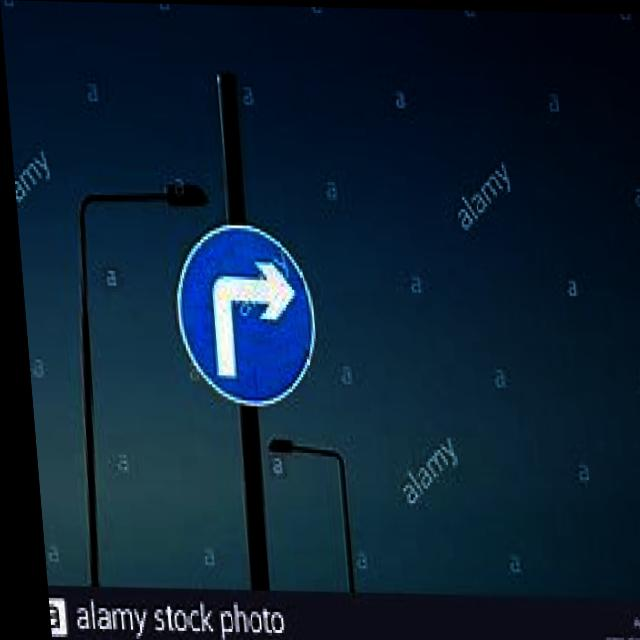COMPULSARY_TURN_RIGHT_AHEAD: (165, 216, 319, 410)
